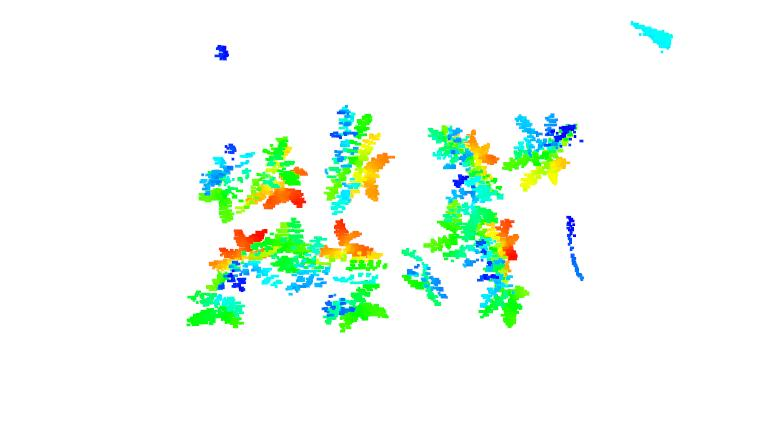chickpea: (276, 216, 397, 331), (427, 207, 531, 327), (194, 133, 312, 219), (185, 226, 277, 330), (503, 101, 584, 193), (326, 103, 389, 217), (426, 126, 504, 215), (396, 244, 452, 309)
